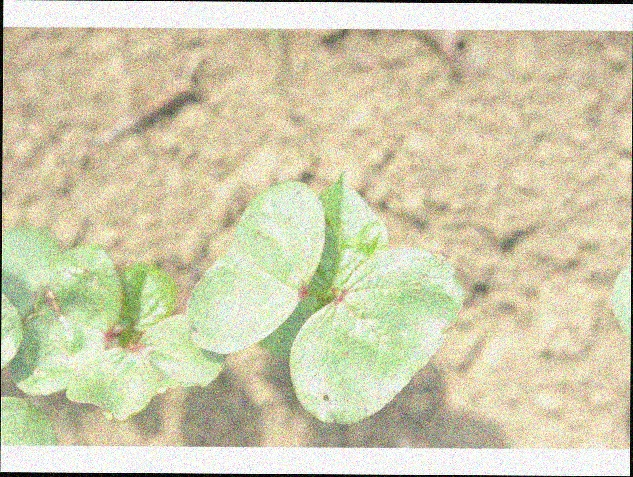cotton: (188, 167, 464, 424), (1, 227, 225, 422)
